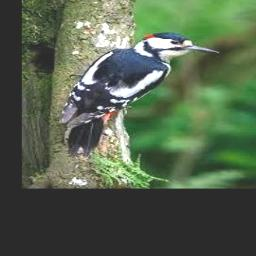Woodpecker: (58, 32, 219, 156)
